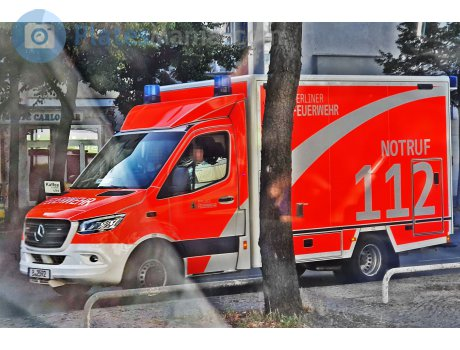License Plates: (29, 266, 54, 279)
